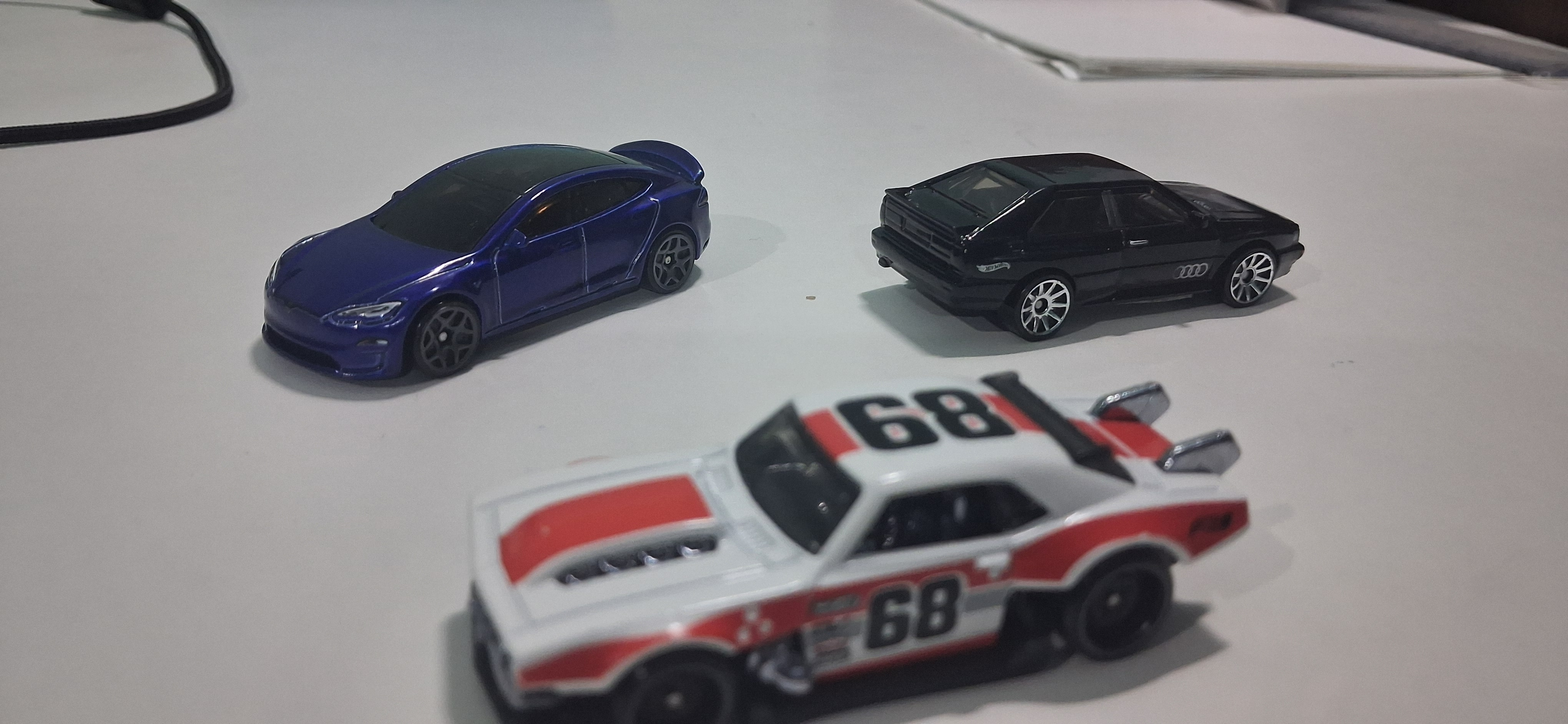Audi_Quattro: (853, 137, 1347, 350)
Camaro: (420, 360, 1290, 720)
Tesla_Model_S_Plaid: (203, 96, 739, 405)
